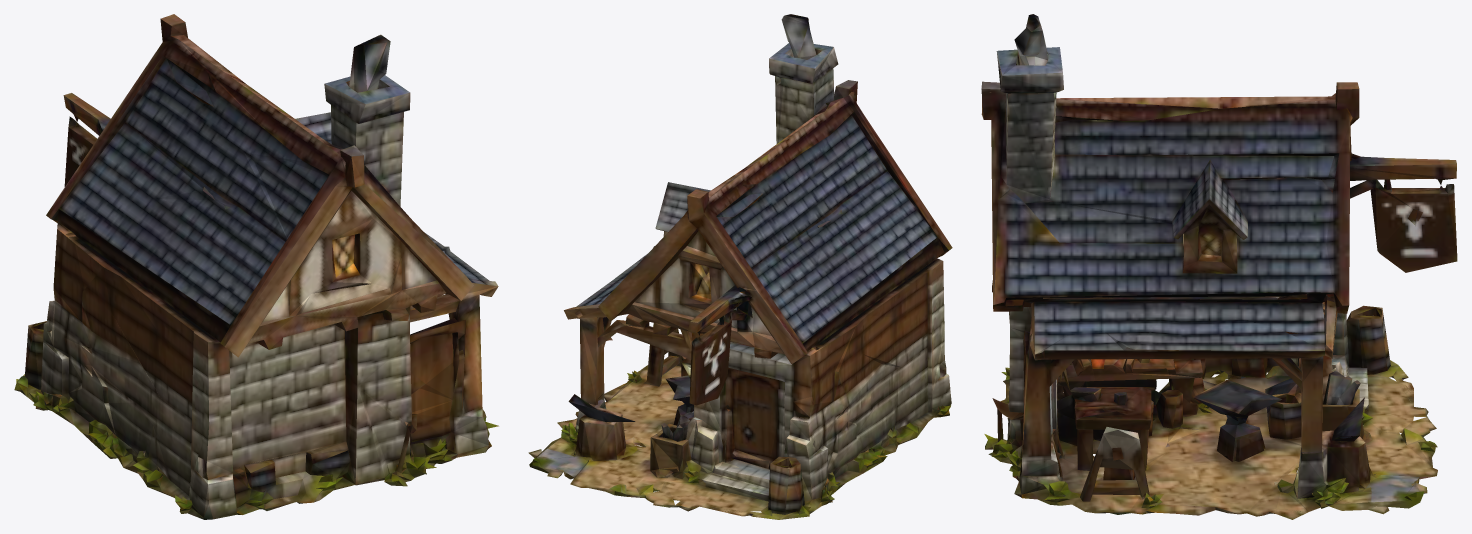
The model's file is blacksmithBuilding.glb.
3 views of the same model, side by side, from view 1: azimuth 30°, elevation 25°; view 2: azimuth 150°, elevation 25°; view 3: azimuth 270°, elevation 25° (orthographic). The views are drawn at different scales.
Parts seen in each view (by area): view 1: geometry_0; view 2: geometry_0; view 3: geometry_0.
Part boxes in pixels (x1=…): geometry_0: x1=14, y1=14, x2=498, y2=519; geometry_0: x1=528, y1=14, x2=952, y2=519; geometry_0: x1=981, y1=14, x2=1457, y2=519.
Bounding box in the file's own units: 0.8344 × 0.9874 × 0.997.
1 material, 1 textured.
